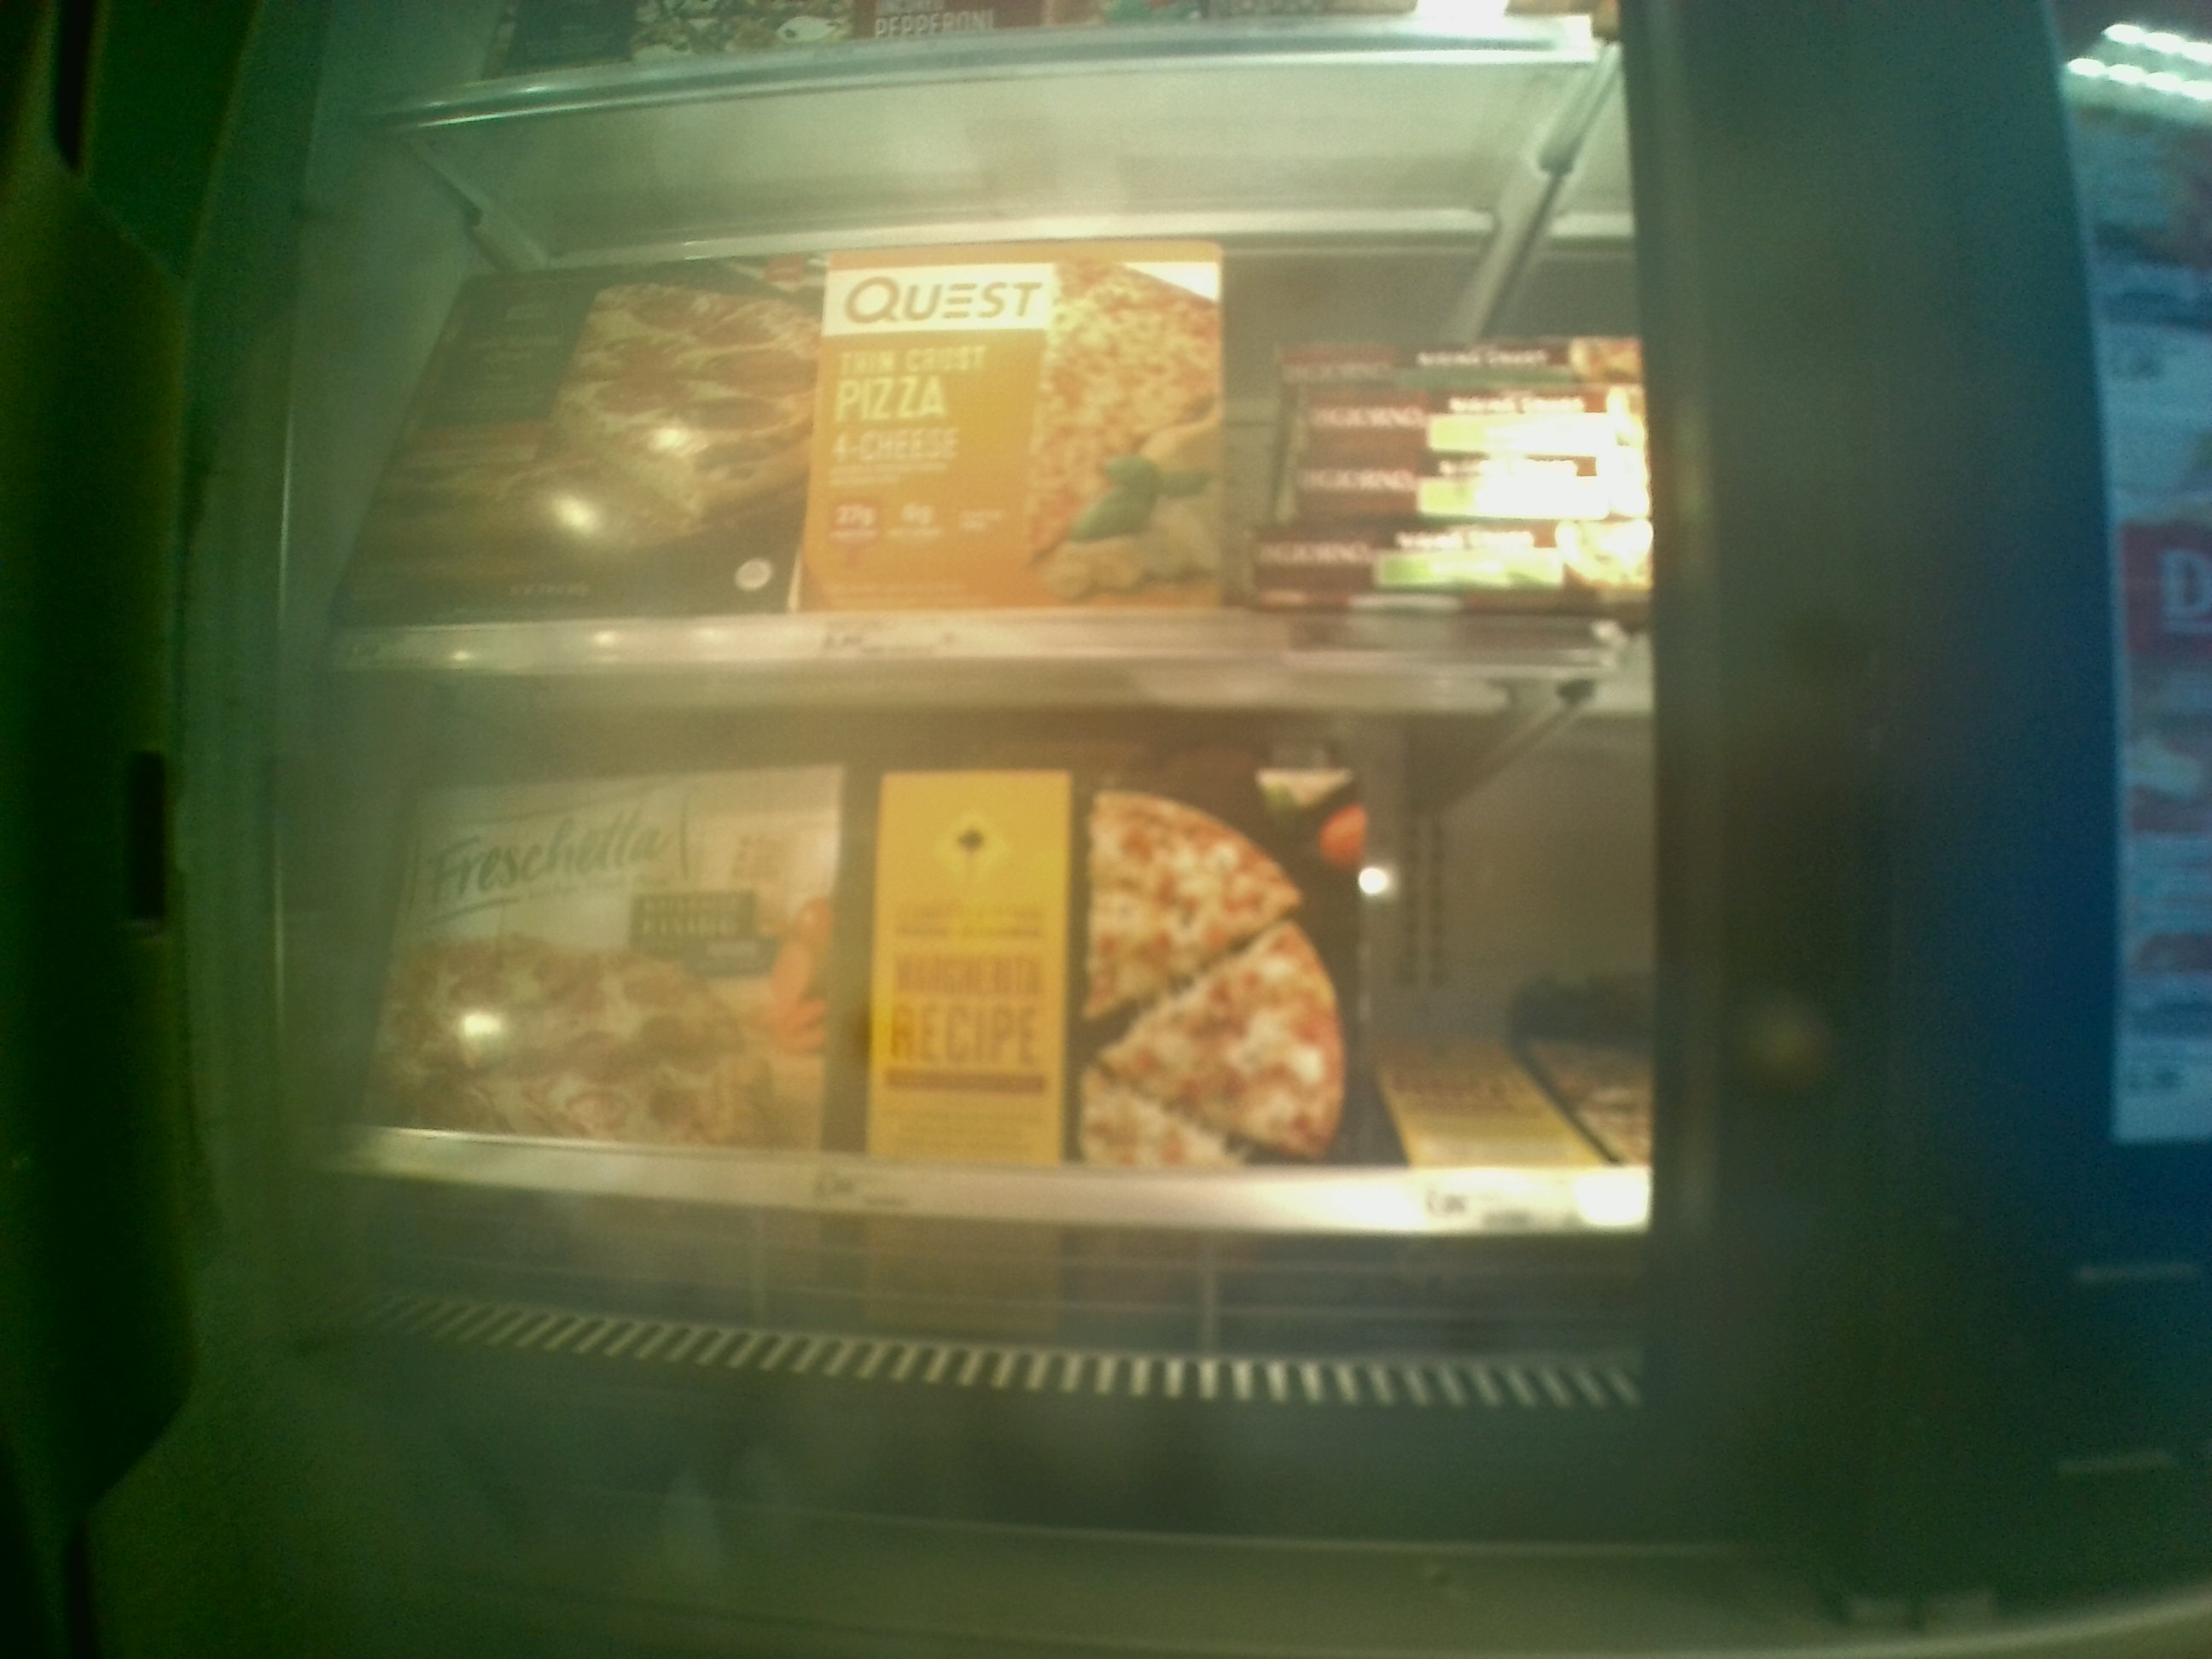shelf: (324, 688, 1672, 1413)
